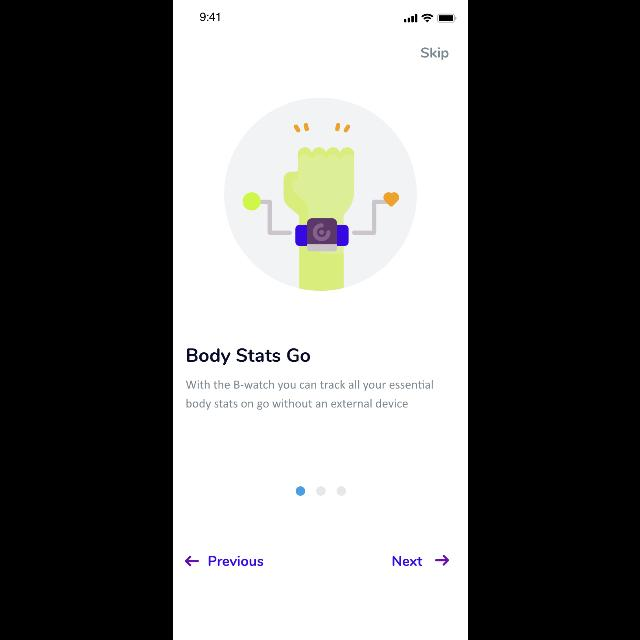icon: (184, 555, 198, 567), (435, 556, 449, 566)
image: (224, 97, 416, 291)
pageindicator: (294, 486, 346, 496)
text: (185, 380, 433, 410), (186, 348, 310, 366), (208, 556, 262, 566), (420, 47, 448, 61), (392, 556, 422, 566)
uppertaskbar: (199, 12, 456, 24)
